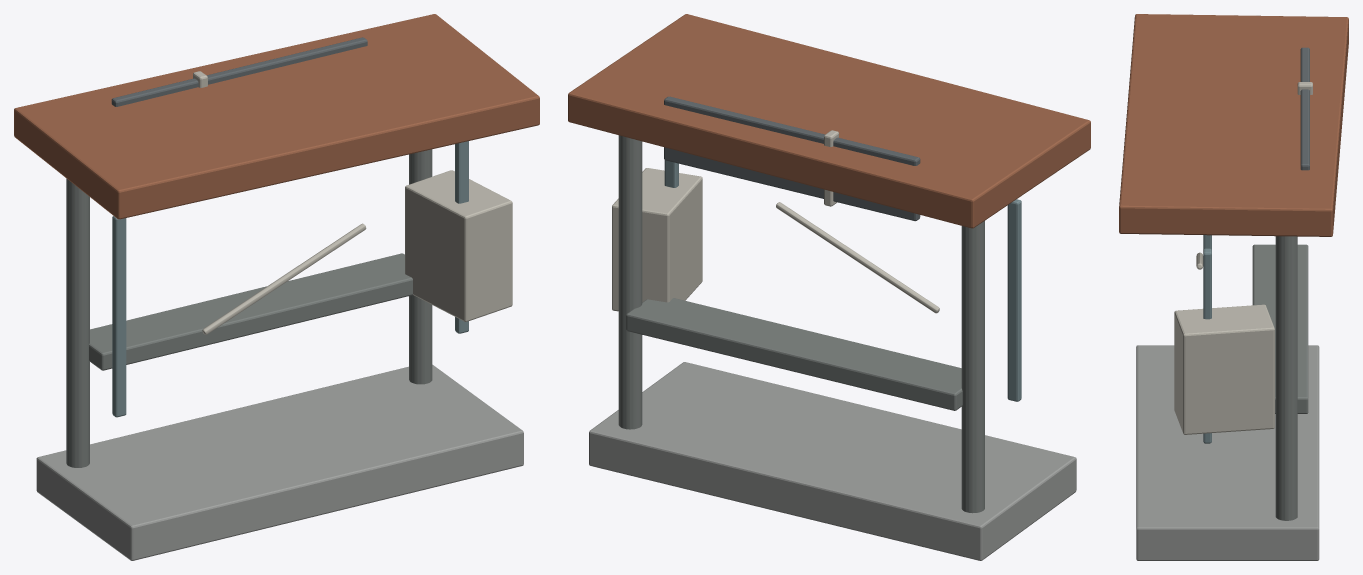
The model's file is Apoc_Prop_Ruined_Bus_Stop.fbx.
The picture shows the model from 3 angles, left to right: view 1: azimuth 30°, elevation 25°; view 2: azimuth 150°, elevation 25°; view 3: azimuth 270°, elevation 25°; orthographic projection. The views are drawn at different scales.
Parts seen in each view (by area): view 1: Apoc_Prop_Ruined_Bus_Stop; view 2: Apoc_Prop_Ruined_Bus_Stop; view 3: Apoc_Prop_Ruined_Bus_Stop.
Boxes of the visible parts, x1,y1,x2,y2 form: Apoc_Prop_Ruined_Bus_Stop: (14,14,539,560); Apoc_Prop_Ruined_Bus_Stop: (568,14,1090,560); Apoc_Prop_Ruined_Bus_Stop: (1119,14,1348,560).
Size of the model in its own units: 3 by 2.62 by 1.48.
